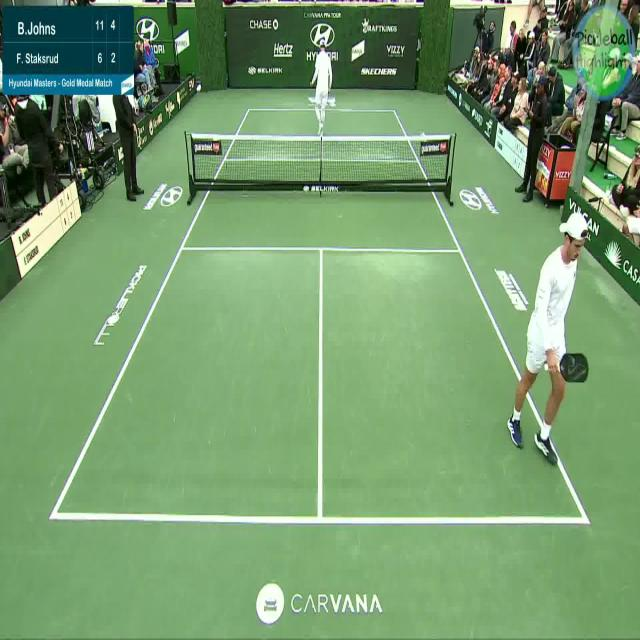Court: (50, 109, 587, 523)
